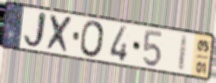4: (108, 24, 130, 64)
5: (141, 29, 165, 69)
I: (177, 34, 190, 74)
J: (22, 10, 48, 51)
O: (79, 19, 106, 60)
X: (45, 12, 76, 55)
